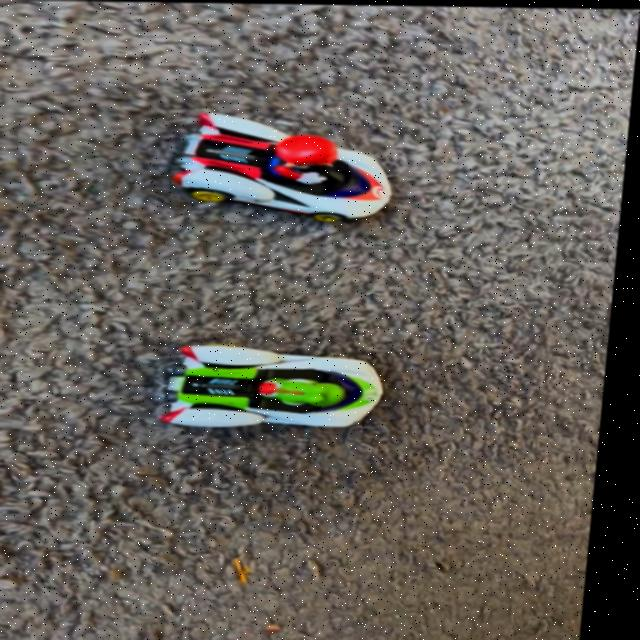mario: (155, 100, 426, 231)
yoshi: (160, 320, 412, 433)
